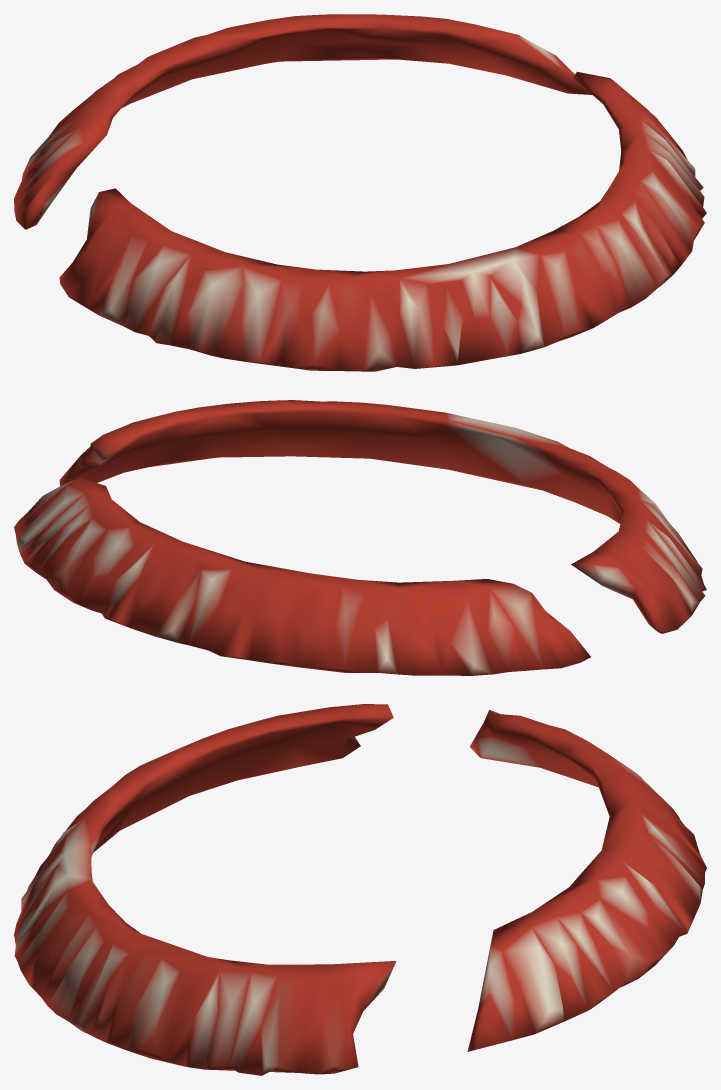
File: bangdo.glb
The picture shows the model from 3 angles, top to bottom: view 1: azimuth 30°, elevation 25°; view 2: azimuth 150°, elevation 25°; view 3: azimuth 270°, elevation 25°; orthographic projection. The views are drawn at different scales.
Visible parts, largest first — view 1: Bang_Do; view 2: Bang_Do; view 3: Bang_Do.
Boxes of the visible parts, <box> form: Bang_Do: <box>14,14,706,371</box>; Bang_Do: <box>14,400,706,675</box>; Bang_Do: <box>14,704,706,1075</box>.
Bounding box in the file's own units: 0.2313 × 0.0435 × 0.2087.
